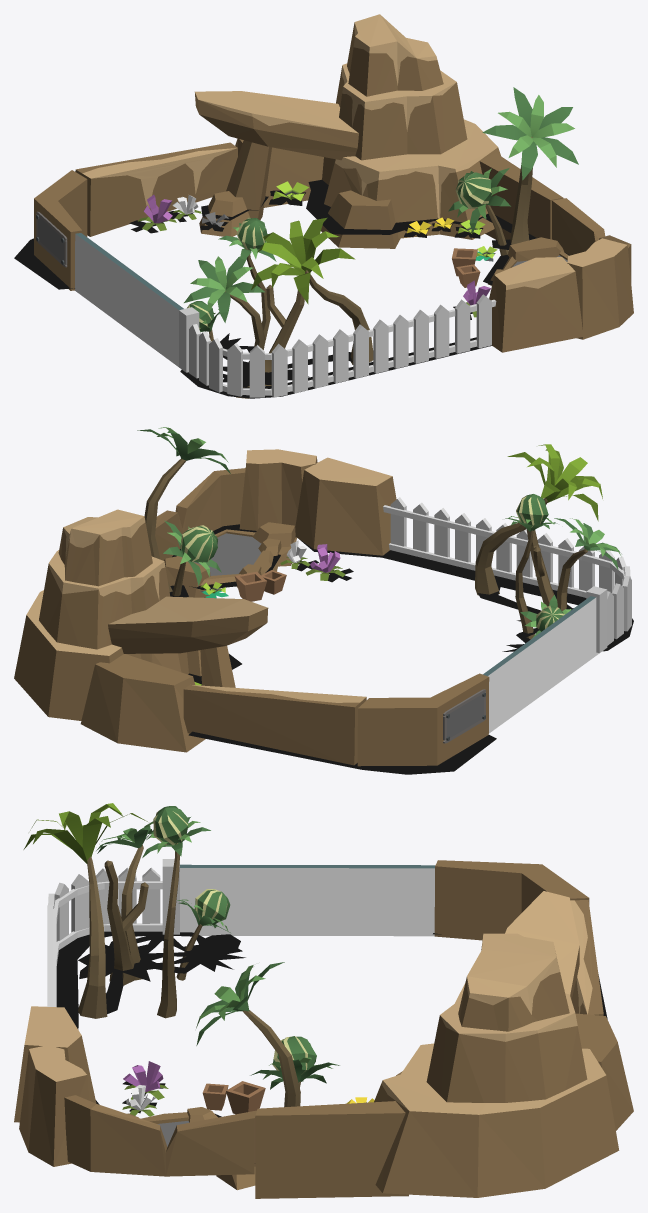
The model's file is xweilan_1003_2.FBX.
3 views of the same model, one above another, from view 1: azimuth 30°, elevation 25°; view 2: azimuth 150°, elevation 25°; view 3: azimuth 270°, elevation 25° (orthographic). The views are drawn at different scales.
Visible parts, largest first — view 1: xweilan_1003_2; view 2: xweilan_1003_2; view 3: xweilan_1003_2.
Part boxes in pixels (<box>): xweilan_1003_2: <box>14,14,633,398</box>; xweilan_1003_2: <box>14,427,633,774</box>; xweilan_1003_2: <box>14,803,633,1198</box>.
Size of the model in its own units: 4643 by 1941 by 4687.
